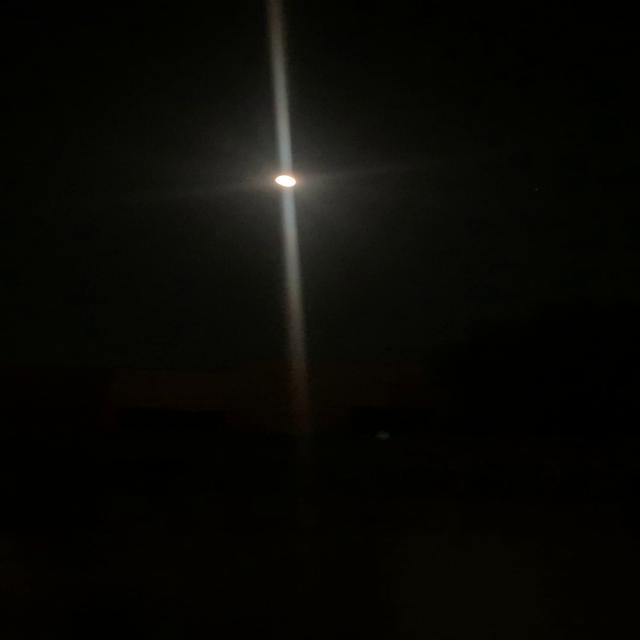moon: (248, 165, 312, 198)
